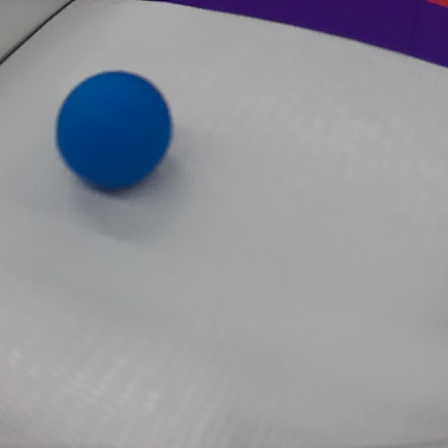blue: (52, 69, 179, 202)
